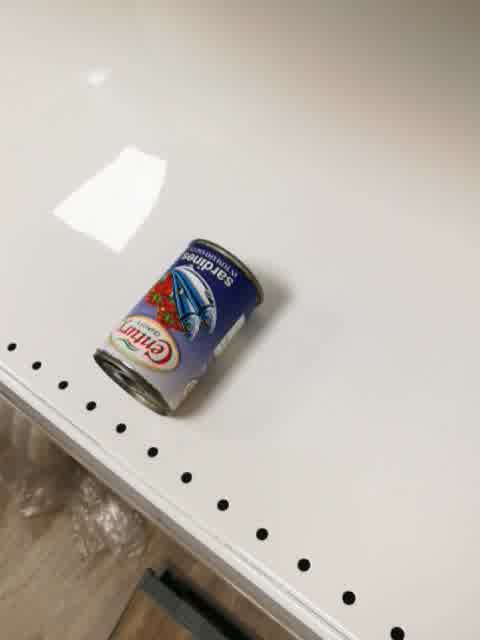sardine: (89, 233, 264, 420)
